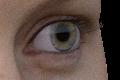eye: (51, 23, 77, 50)
